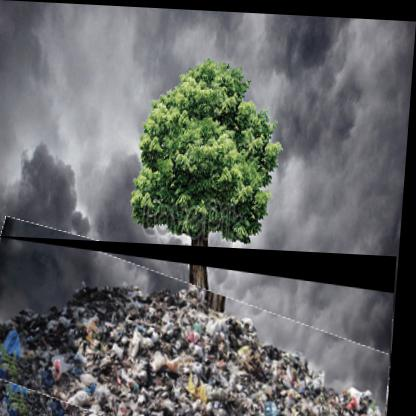Garbage: (1, 236, 403, 416)
